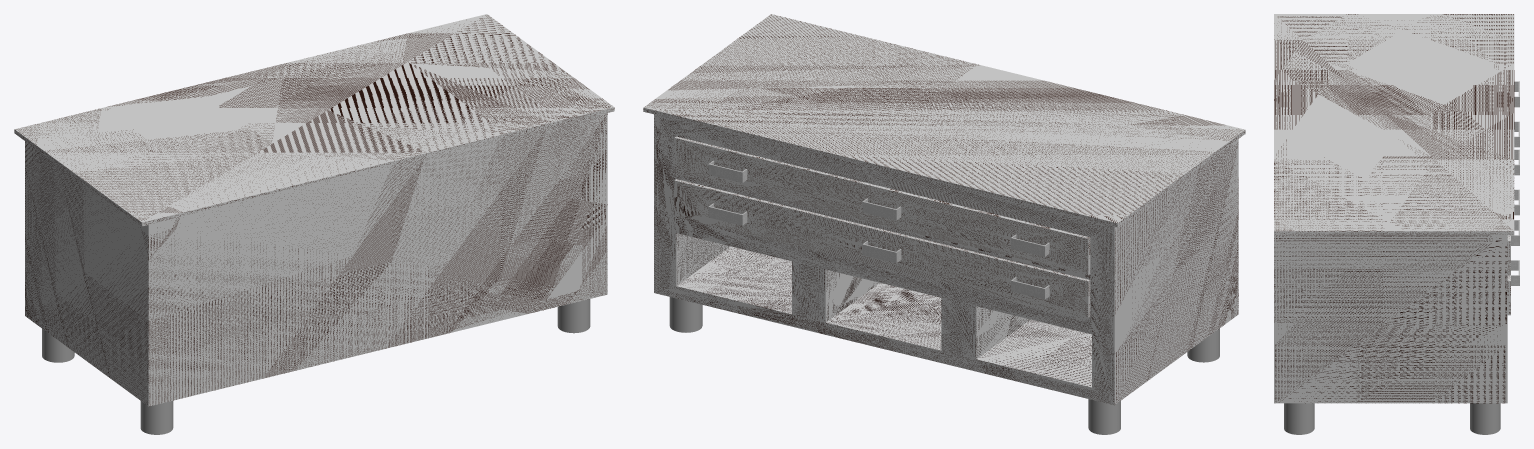
3 renders of one model, left to right at view 1: azimuth 30°, elevation 25°; view 2: azimuth 150°, elevation 25°; view 3: azimuth 270°, elevation 25°, orthographic. The views are drawn at different scales.
Visible parts, largest first — view 1: mesh8_mesh8-geometry, mesh14_mesh14-geometry; view 2: mesh8_mesh8-geometry, mesh4_mesh4-geometry, mesh1_mesh1-geometry, mesh14_mesh14-geometry; view 3: mesh8_mesh8-geometry, mesh14_mesh14-geometry, mesh1_mesh1-geometry, mesh4_mesh4-geometry.
Boxes of the visible parts, x1,y1,x2,y2 form: mesh8_mesh8-geometry: [14, 14, 614, 406]; mesh14_mesh14-geometry: [42, 299, 590, 434]; mesh8_mesh8-geometry: [643, 14, 1245, 405]; mesh4_mesh4-geometry: [674, 136, 1090, 317]; mesh1_mesh1-geometry: [708, 160, 1049, 299]; mesh14_mesh14-geometry: [669, 297, 1219, 434]; mesh8_mesh8-geometry: [1274, 14, 1514, 403]; mesh14_mesh14-geometry: [1284, 403, 1500, 434]; mesh1_mesh1-geometry: [1511, 81, 1519, 285]; mesh4_mesh4-geometry: [1507, 235, 1510, 315].
Size of the model in its own units: 0.8362 by 0.3757 by 0.3996.
